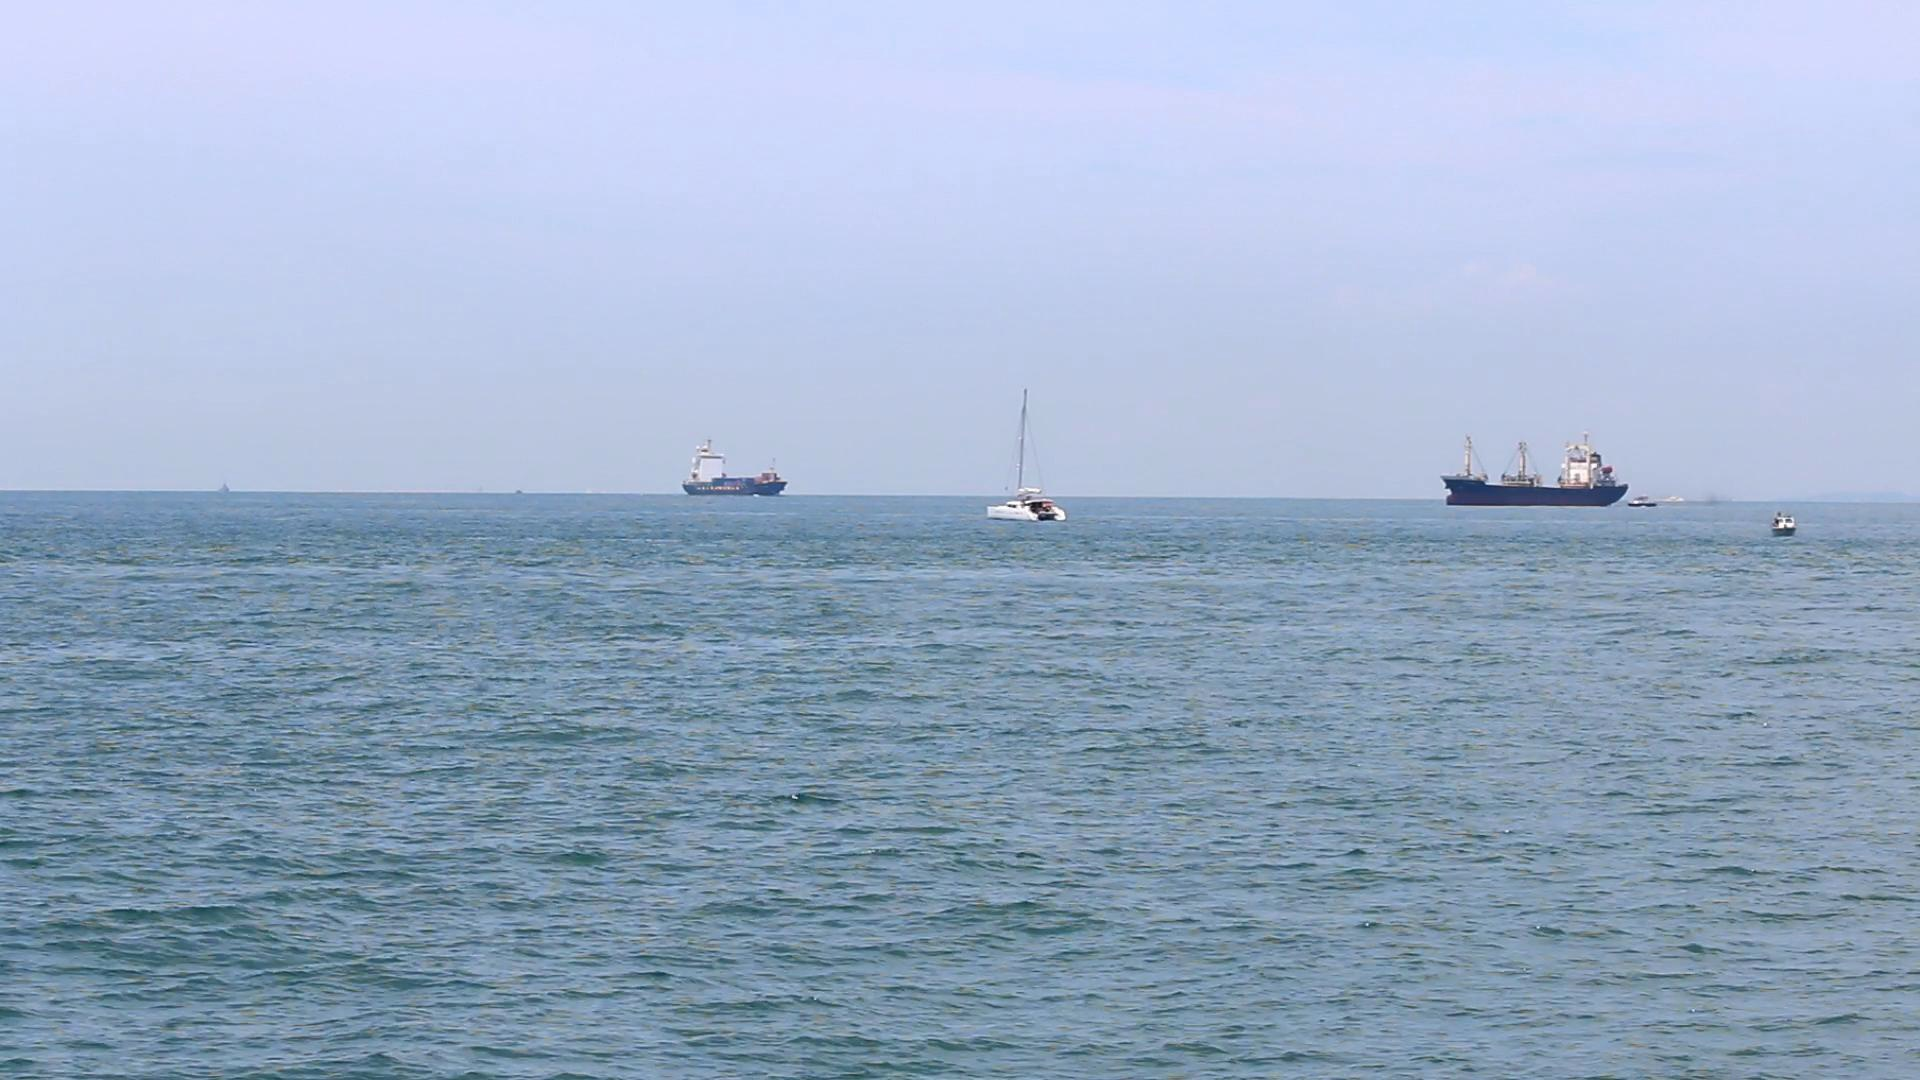Container Ship: (1440, 430, 1631, 509), (680, 435, 789, 497)
